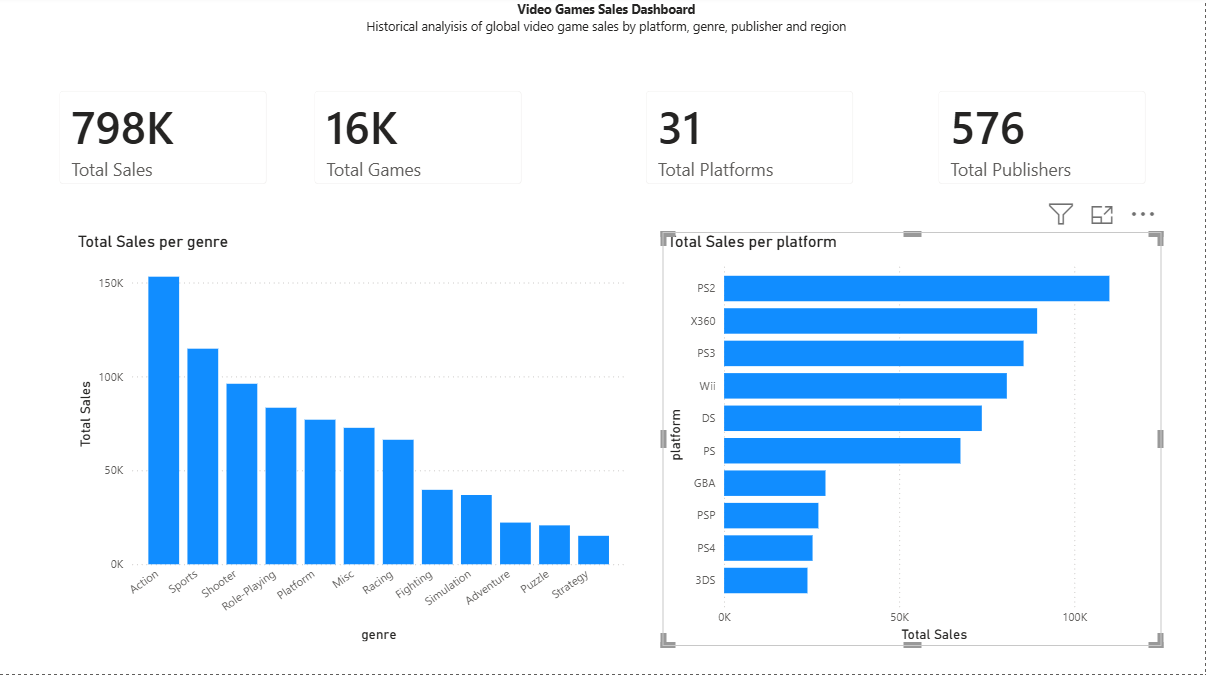

What the dashboard file says about the page in this screenshot:
{"tool":"powerbi","page":{"name":"Pagina 1","canvas":[1280,720],"ordinal":0},"visuals":[{"type":"textbox","box":[9.5,0,1270.9,65.2],"z":0},{"type":"cardVisual","fields":{"Data":["clean_vgsales.Total Sales"]},"box":[42.9,44.5,178.1,133.6],"z":1000},{"type":"cardVisual","fields":{"Data":["clean_vgsales.Total Platforms"]},"box":[669.6,44.5,254.5,133.6],"z":2000},{"type":"cardVisual","fields":{"Data":["clean_vgsales.Total Publishers"]},"box":[979.8,44.5,254.5,133.6],"z":3000},{"type":"cardVisual","fields":{"Data":["clean_vgsales.Total Games"]},"box":[318.1,44.5,254.5,133.6],"z":4000},{"type":"columnChart","fields":{"Category":["clean_vgsales.genre"],"Y":["clean_vgsales.Total Sales"]},"box":[79.5,251.3,590.1,439],"z":5000},{"type":"barChart","fields":{"Category":["clean_vgsales.platform"],"Y":["clean_vgsales.Total Sales"]},"box":[704.6,251.3,529.7,439],"z":6000}]}

Visuals, with their boxes in screenshot pixels (x1, y1, x2, y2), scaled from the page's 1280x720 canvas onto the 1206x675 screenshot:
textbox: [x1=9, y1=0, x2=1205, y2=61]
cardVisual - clean_vgsales.Total Sales: [x1=40, y1=42, x2=208, y2=167]
cardVisual - clean_vgsales.Total Platforms: [x1=631, y1=42, x2=871, y2=167]
cardVisual - clean_vgsales.Total Publishers: [x1=923, y1=42, x2=1163, y2=167]
cardVisual - clean_vgsales.Total Games: [x1=300, y1=42, x2=539, y2=167]
columnChart - clean_vgsales.genre x clean_vgsales.Total Sales: [x1=75, y1=236, x2=631, y2=647]
barChart - clean_vgsales.platform x clean_vgsales.Total Sales: [x1=664, y1=236, x2=1163, y2=647]
